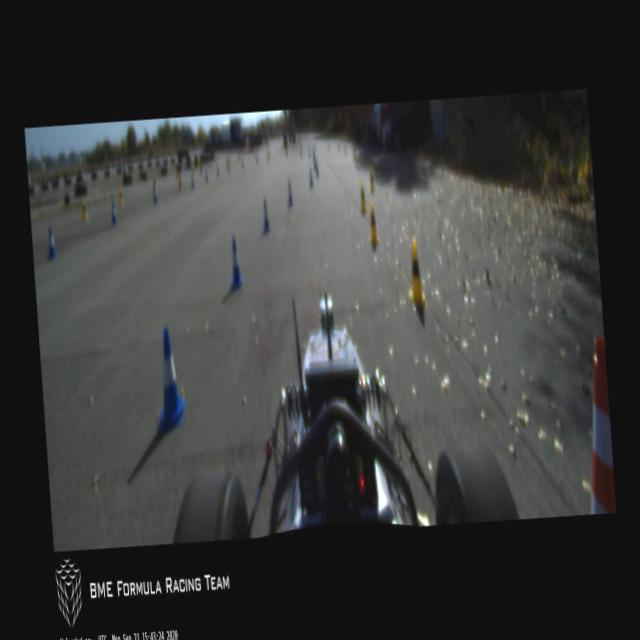blue_cone: (150, 328, 188, 436), (226, 234, 243, 290), (46, 226, 58, 260), (260, 199, 270, 233), (109, 202, 118, 226), (286, 180, 292, 208), (151, 183, 158, 206), (307, 166, 313, 188), (314, 160, 319, 178)
large_orange_cone: (576, 337, 616, 513)
yellow_cone: (404, 238, 426, 308), (366, 200, 379, 244), (358, 179, 367, 212), (80, 198, 90, 220), (368, 166, 374, 192), (117, 185, 124, 205), (374, 156, 378, 178)
